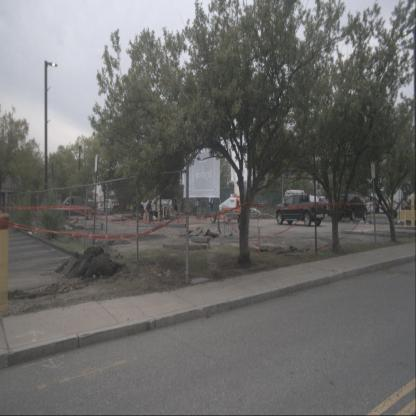cone: (71, 218, 79, 223)
